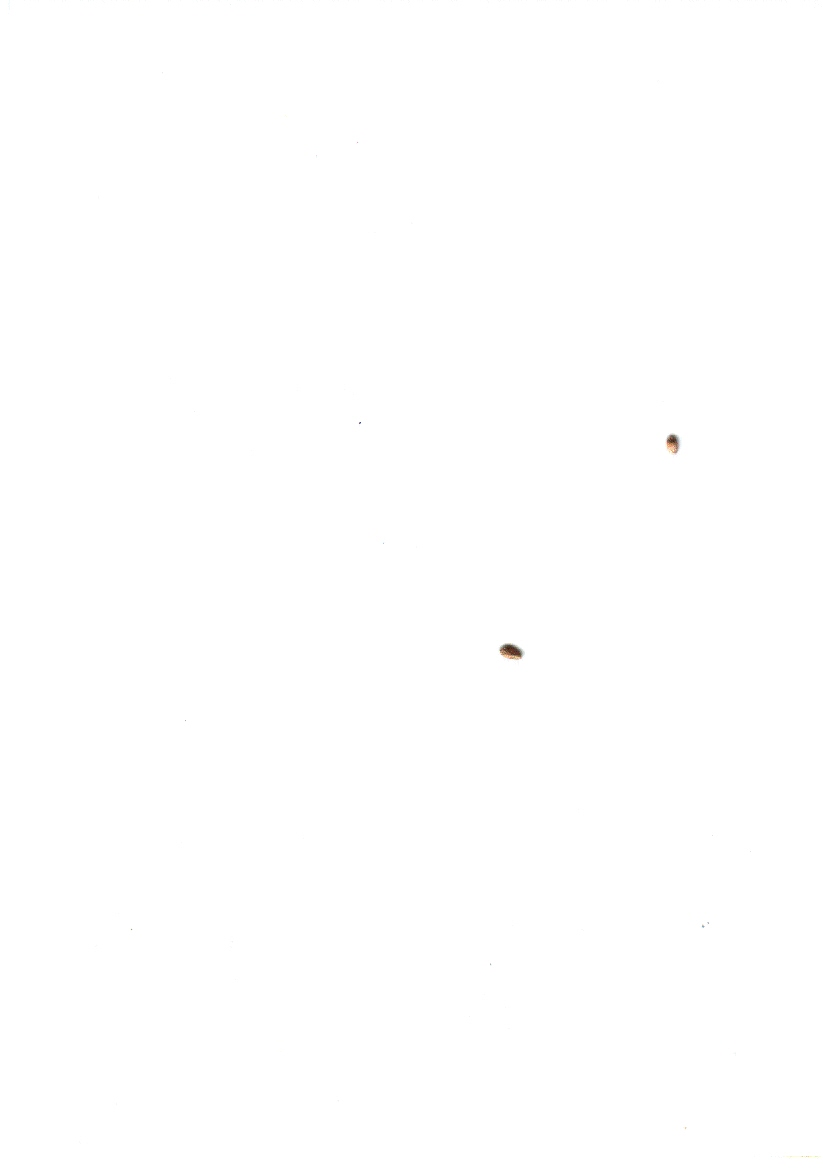grains: (490, 627, 529, 675), (659, 421, 689, 467)
